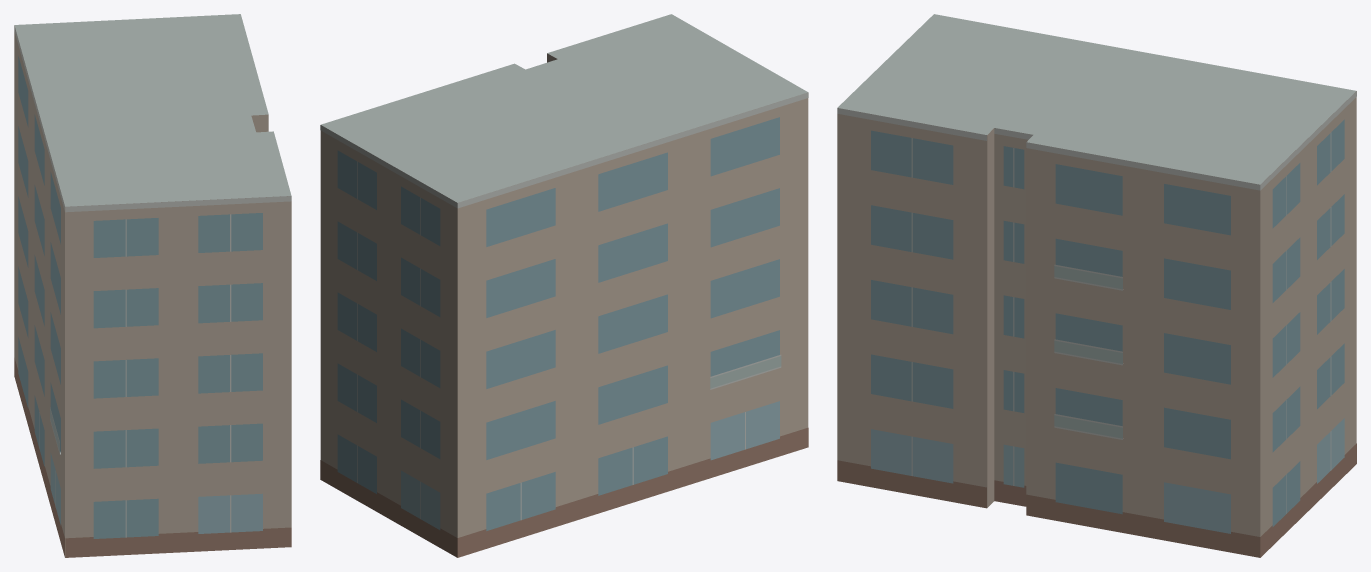
Rendered from survey-upis-33047246.glb.
3 views of the same model, side by side, from view 1: azimuth 30°, elevation 25°; view 2: azimuth 150°, elevation 25°; view 3: azimuth 270°, elevation 25° (orthographic). The views are drawn at different scales.
Parts seen in each view (by area): view 1: survey-upis-33047246.tmp; view 2: survey-upis-33047246.tmp; view 3: survey-upis-33047246.tmp.
Boxes of the visible parts, x1,y1,x2,y2 form: survey-upis-33047246.tmp: [14, 14, 291, 557]; survey-upis-33047246.tmp: [320, 14, 808, 557]; survey-upis-33047246.tmp: [837, 14, 1356, 557].
Size of the model in its own units: 15.17 by 15.45 by 19.5.
